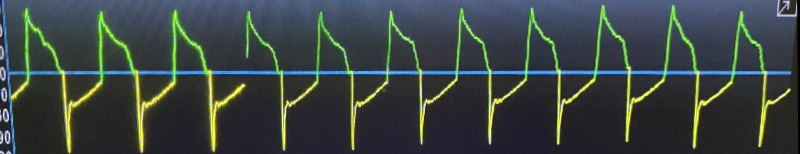peepi: (12, 0, 766, 151)
